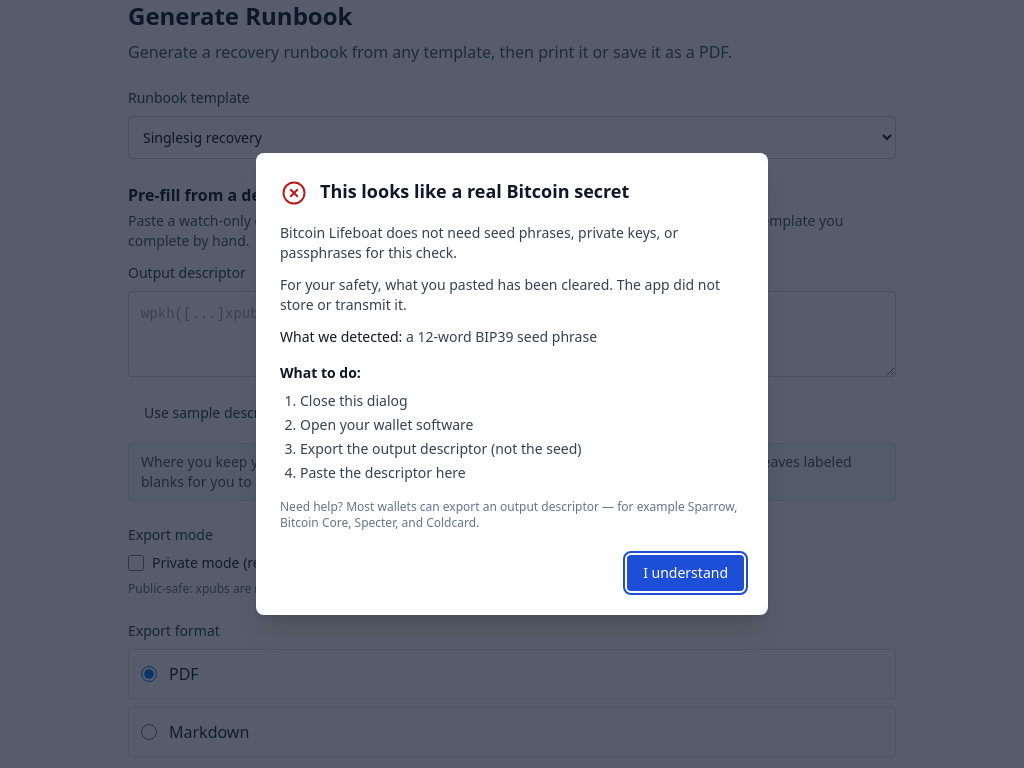
Scenario: Generate Runbook (US-052) › blocks a pasted secret in the descriptor pre-fill and clears the field (§13.5 / §22.7)
This screenshot has width=1024, height=768.
Expected: the heading "This looks like a real Bitcoin secret" is shown, [320, 177, 629, 205]
Expected: the text "What we detected: a 12-word BIP39 seed phrase" is shown, [280, 327, 597, 346]
Click the button "I understand".
click(686, 573)  # box [627, 555, 744, 591]
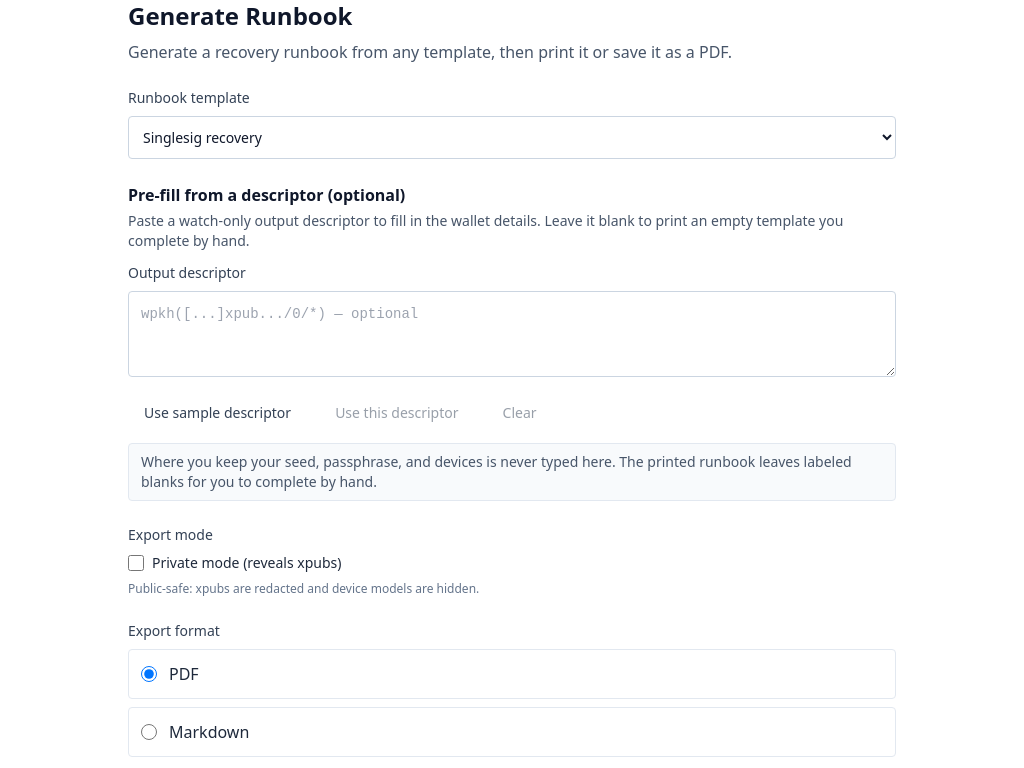
Now the heading "This looks like a real Bitcoin secret" is gone
